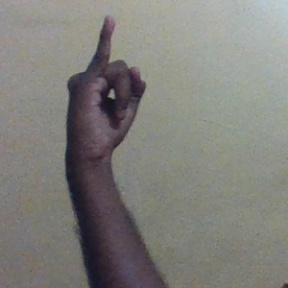I: (62, 15, 149, 159)
